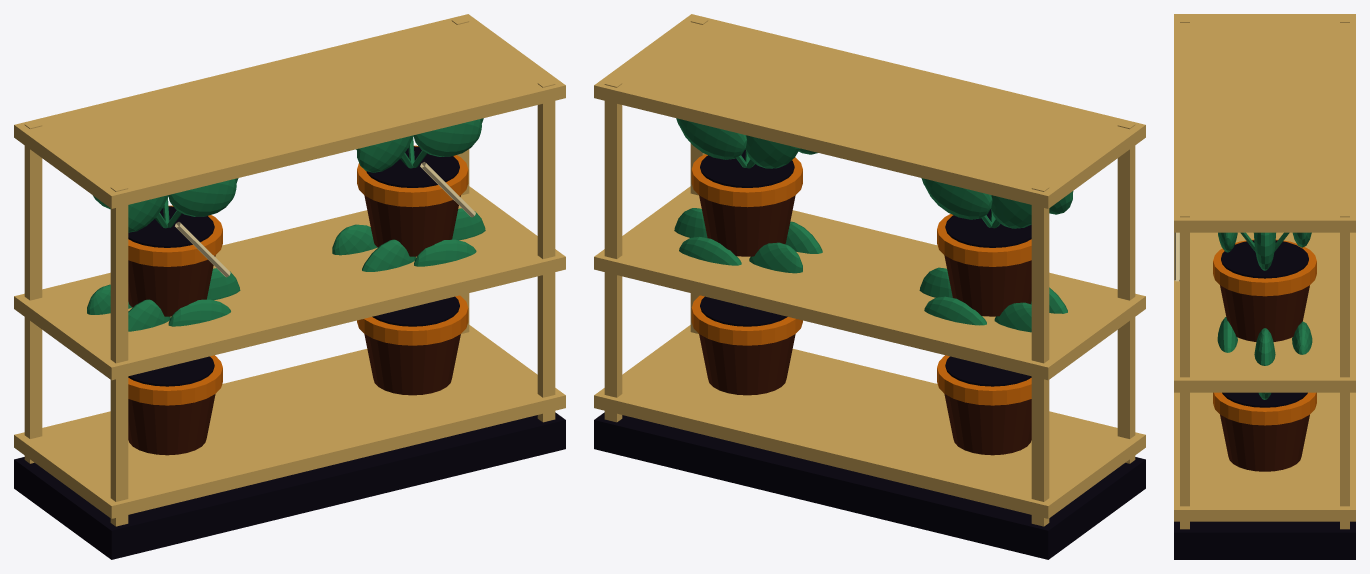
File: rail_glass_planter_display_r10.fbx
3 renders of one model, left to right at view 1: azimuth 30°, elevation 25°; view 2: azimuth 150°, elevation 25°; view 3: azimuth 270°, elevation 25°, orthographic. The views are drawn at different scales.
Visible parts, largest first — view 1: Part_-1, Part_4, Part_0, Part_2, Part_3, Part_1; view 2: Part_-1, Part_0, Part_4, Part_1; view 3: Part_-1, Part_1, Part_4, Part_3.
Part boxes in pixels (box(x1,y1,x2,y2)): Part_-1: box(14, 14, 565, 559); Part_4: box(112, 163, 565, 367); Part_0: box(14, 121, 128, 559); Part_2: box(111, 222, 561, 518); Part_3: box(114, 162, 565, 505); Part_1: box(451, 17, 555, 422); Part_-1: box(594, 14, 1145, 559); Part_0: box(1031, 121, 1145, 559); Part_4: box(594, 153, 1145, 296); Part_1: box(604, 17, 708, 422); Part_-1: box(1174, 14, 1355, 532); Part_1: box(1174, 211, 1355, 559); Part_4: box(1174, 232, 1355, 380); Part_3: box(1174, 232, 1179, 281).
Bounding box in the file's own units: 3.82 × 2.93 × 1.42.
